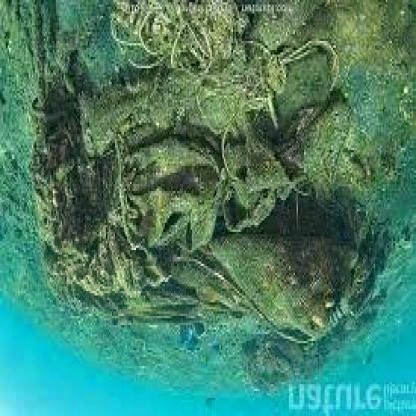net: (117, 0, 343, 101)
